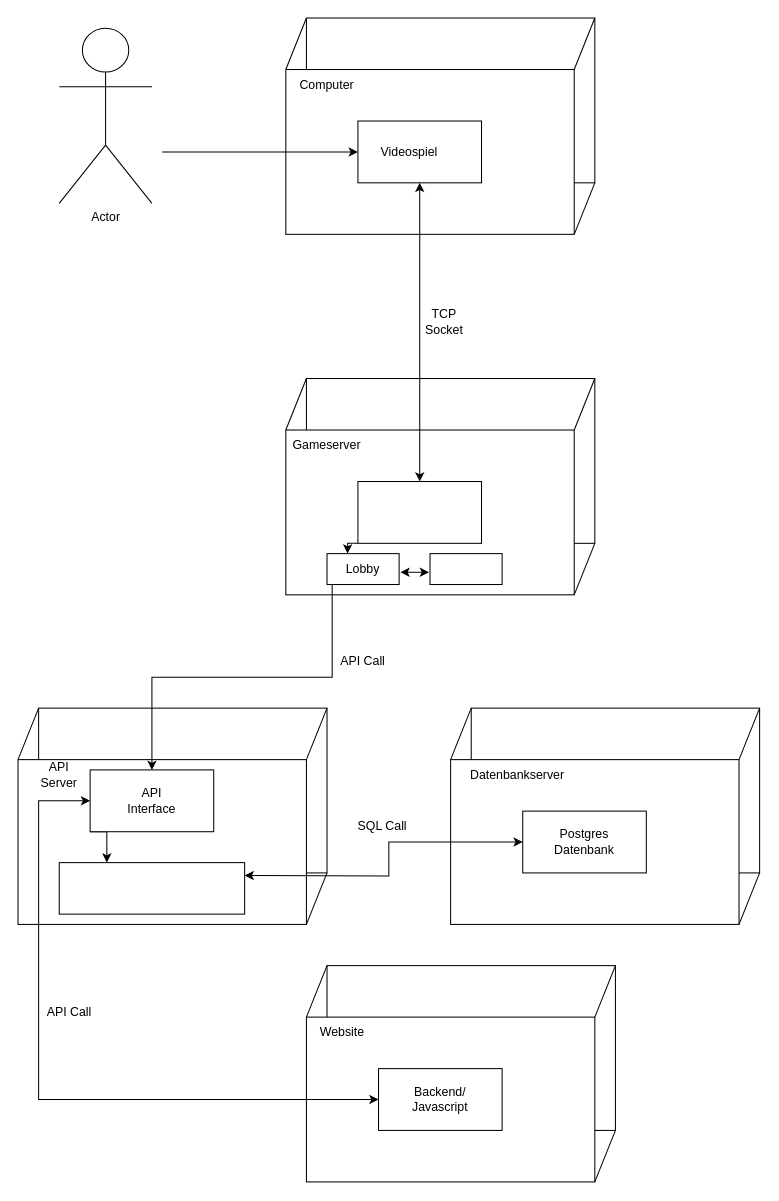
The diagram is 779 pixels wide and 1201 high, and some of its shapes have lost their labels. Each missing label, with the centre of its shape:
"Datenbank Interface" belongs at point 151,888.
"Lobbyhandler" belongs at point 419,511.
"Player" belongs at point 465,569.
